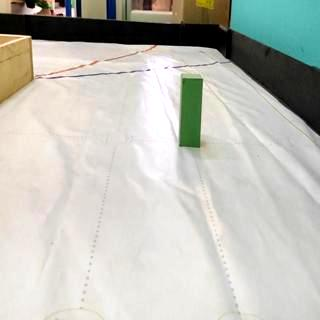greenbox: (180, 72, 202, 148)
